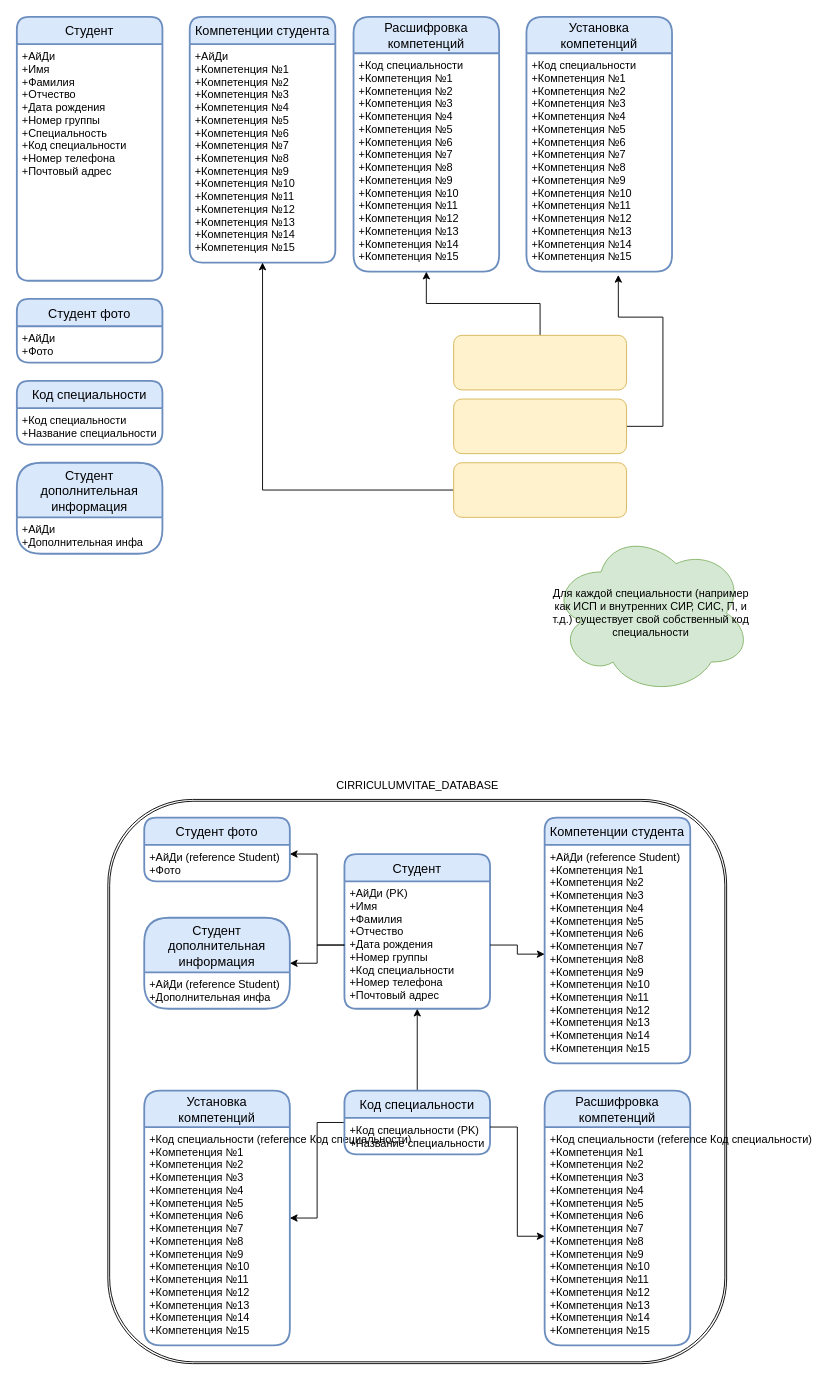
Image size: 828x1380. Some labels were removed from this diagram. Here are the shapes that lost their labels. From the top down, the box of each, then its label:
(453, 334, 627, 390): Данная таблица служит для расшифровки специальности при генерации резюме
(453, 398, 627, 454): Данная таблица служит для установки значений чек-боксов внутри программы
(453, 462, 627, 517): Данная таблица служит для хранения данных о компетенциях студента
